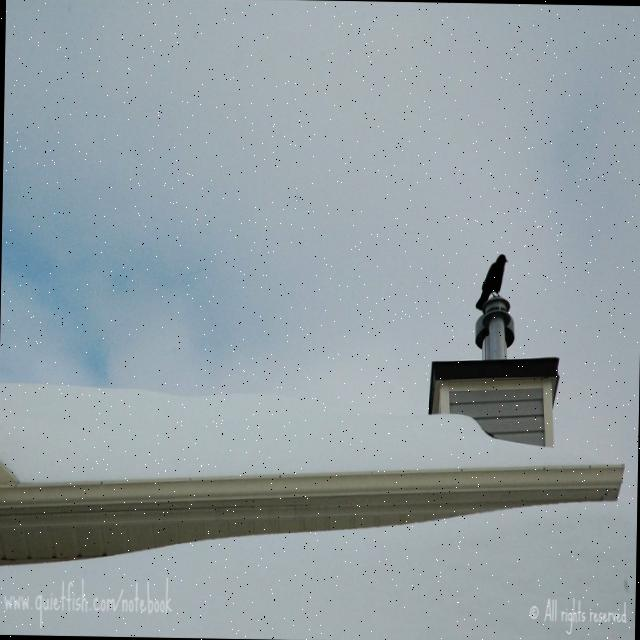bird: (475, 253, 508, 311)
